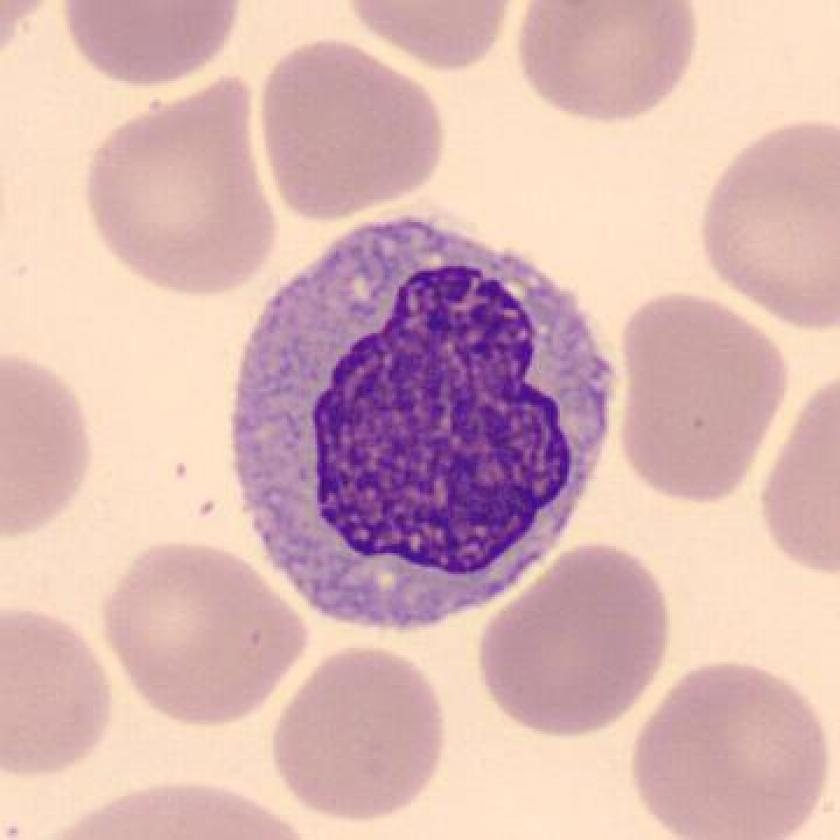monocyte: (209, 200, 636, 654)
